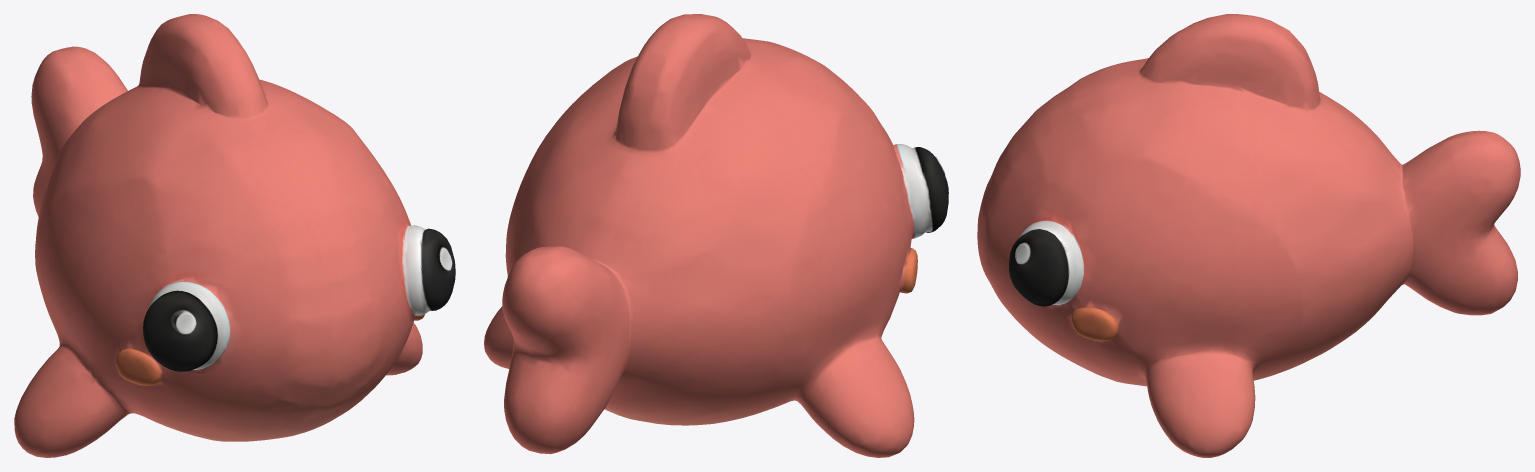
File: fish_pink.glb
The picture shows the model from 3 angles, left to right: view 1: azimuth 30°, elevation 25°; view 2: azimuth 150°, elevation 25°; view 3: azimuth 270°, elevation 25°; orthographic projection. The views are drawn at different scales.
Parts seen in each view (by area): view 1: tripo_node_d192460e-6604-433a-a716-6748c631206e; view 2: tripo_node_d192460e-6604-433a-a716-6748c631206e; view 3: tripo_node_d192460e-6604-433a-a716-6748c631206e.
Boxes of the visible parts, x1,y1,x2,y2 form: tripo_node_d192460e-6604-433a-a716-6748c631206e: (14, 14, 455, 457); tripo_node_d192460e-6604-433a-a716-6748c631206e: (484, 14, 948, 457); tripo_node_d192460e-6604-433a-a716-6748c631206e: (977, 14, 1520, 457).
Bounding box in the file's own units: 0.7766 × 0.7102 × 0.9798.
Materials: 1 (1 with a texture image).
